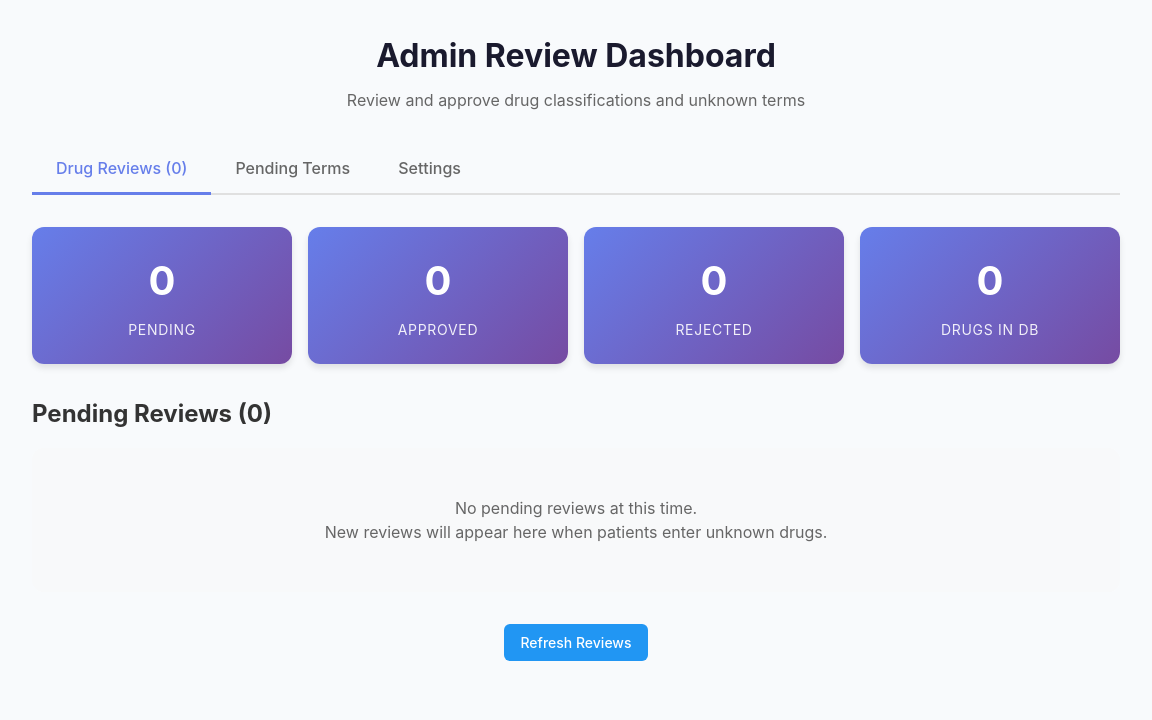
Scenario: Admin API Key Configuration - Integration Contract › API Key Input and Save › should show success message after saving valid key
Click the button "Settings" at point(430, 170), box [374,144,485,195]
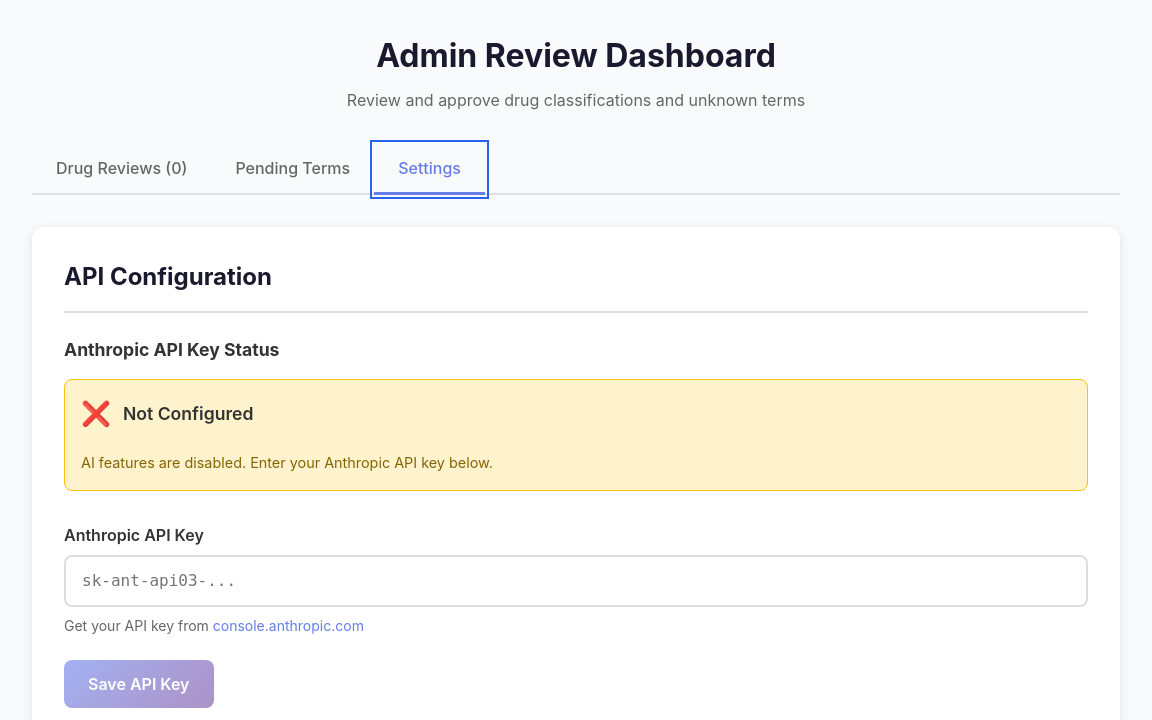
Type "sk-ant-test-key-12345" into the password field labelled "Anthropic API Key" at point(576, 581), box [64,555,1088,607]
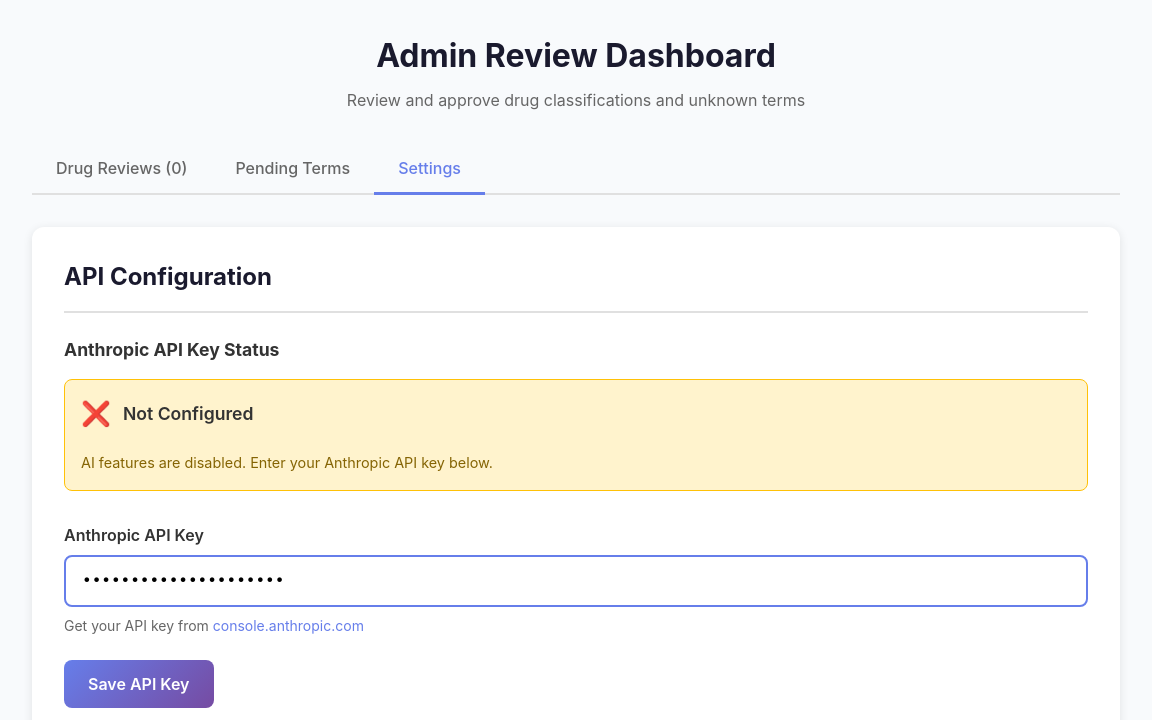
Click the button "Save API Key" at point(139, 684), box [64,660,214,708]
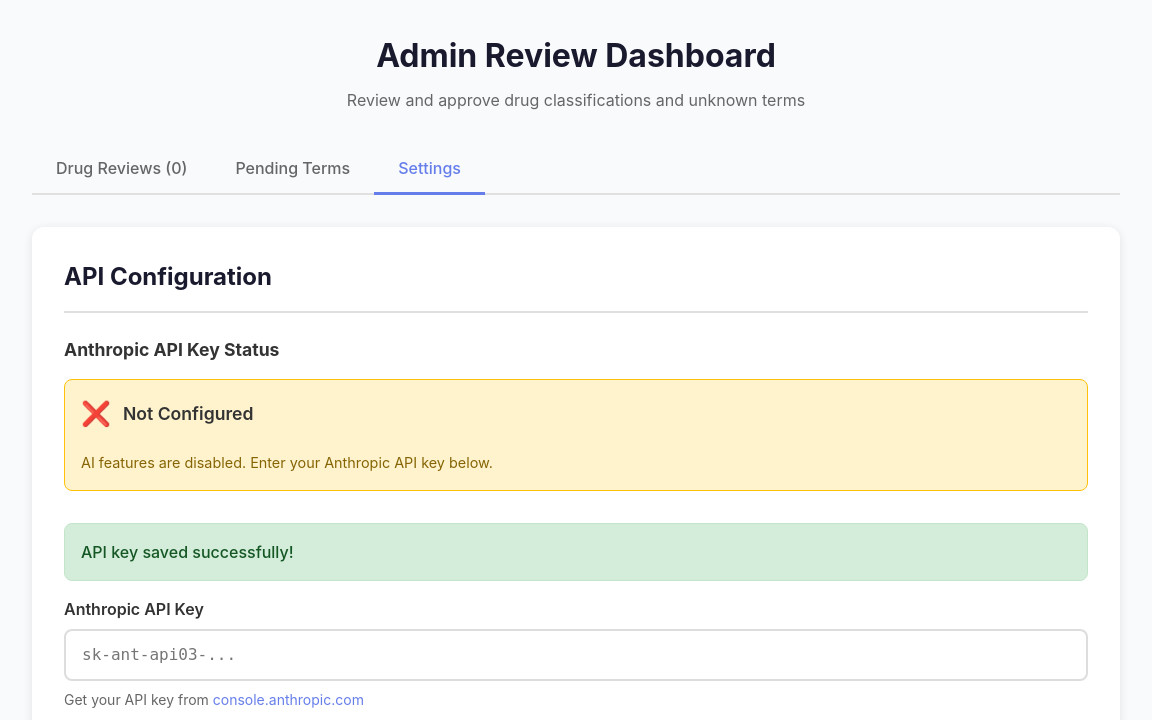
Expected: the text "API key saved successfully!" is shown, [64,523,1088,581]
